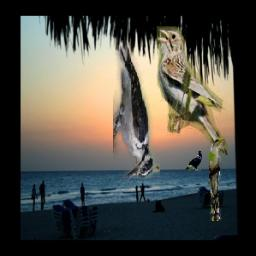Crow: (184, 150, 202, 172)
Cuckoo: (208, 139, 224, 221)
Sparrow: (156, 27, 227, 156)
Woodpecker: (112, 40, 159, 179)
